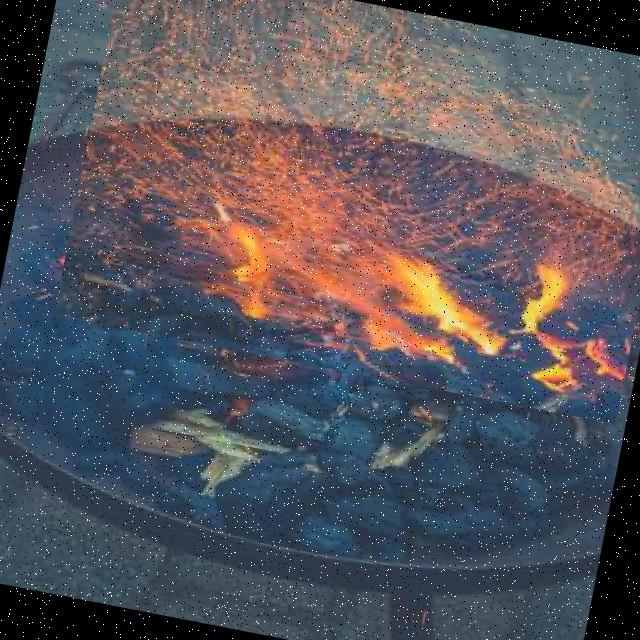fire: (54, 0, 640, 424)
